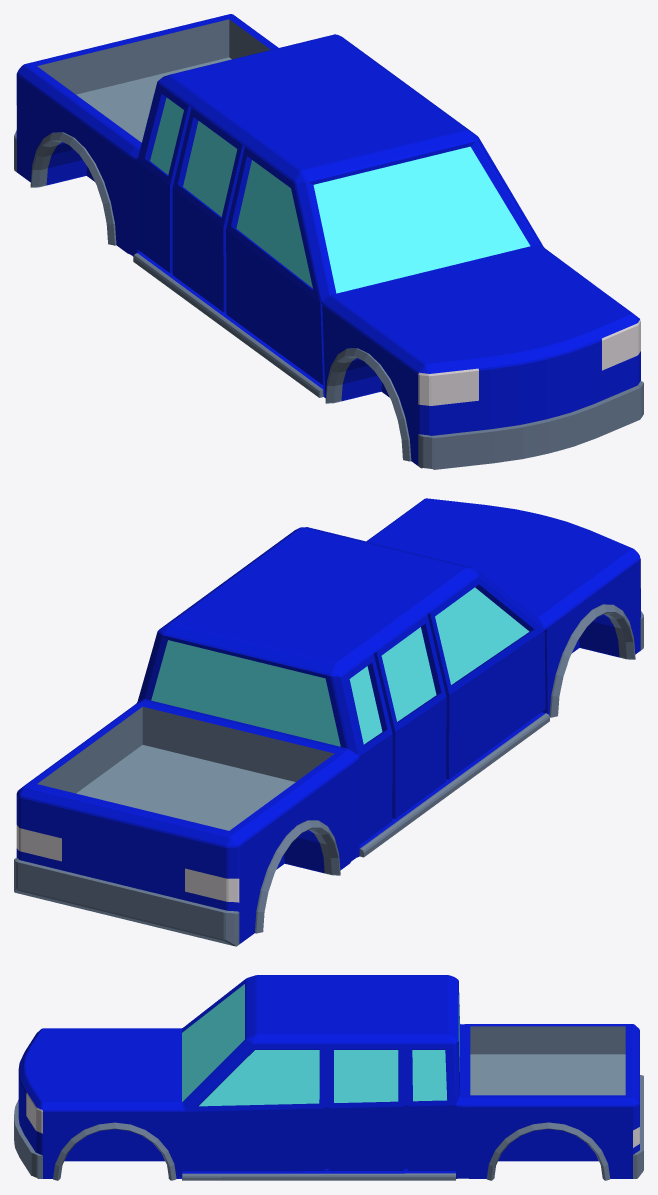
The model's file is body.fbx.
3 views of the same model, one above another, from view 1: azimuth 30°, elevation 25°; view 2: azimuth 150°, elevation 25°; view 3: azimuth 270°, elevation 25° (orthographic). The views are drawn at different scales.
Parts seen in each view (by area): view 1: Body; view 2: Body; view 3: Body.
Part boxes in pixels (x1,y1,x2,y2): Body: [14, 14, 643, 469]; Body: [14, 498, 643, 946]; Body: [14, 975, 643, 1180].
Size of the model in its own units: 146 by 110 by 465.
